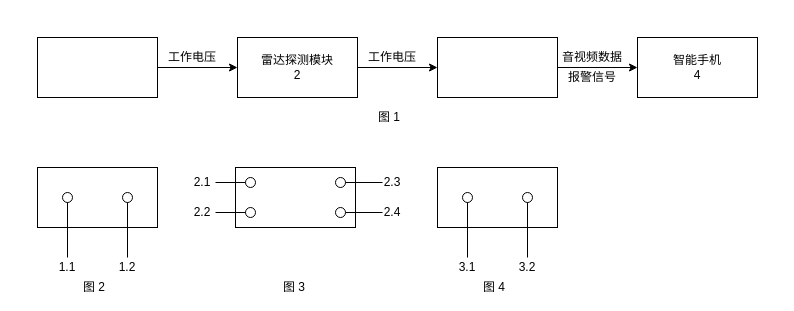
The diagram is 794 pixels wide and 311 high, and some of its shapes have lost their labels. The box of each missing label's shape, as (x1, y1, x2, y2) in pixels:
汽车电源 DC 12V 1: (36, 36, 158, 98)
车载监控摄像头 3: (436, 36, 558, 98)
